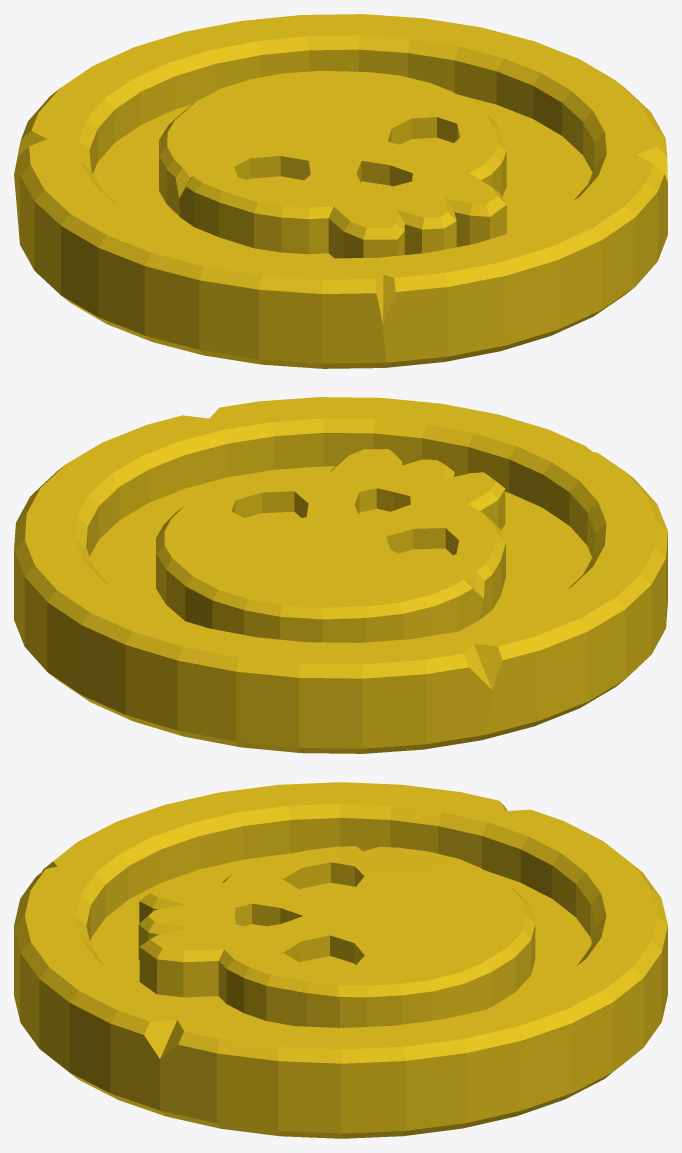
Rendered from coin.fbx.
3 renders of one model, top to bottom at view 1: azimuth 30°, elevation 25°; view 2: azimuth 150°, elevation 25°; view 3: azimuth 270°, elevation 25°, orthographic.
Visible parts, largest first — view 1: Coin; view 2: Coin; view 3: Coin.
Boxes of the visible parts, bbox=[...] form: Coin: bbox=[14, 14, 667, 368]; Coin: bbox=[14, 397, 667, 753]; Coin: bbox=[14, 782, 667, 1138].
Bounding box in the file's own units: 200 × 30.16 × 200.
